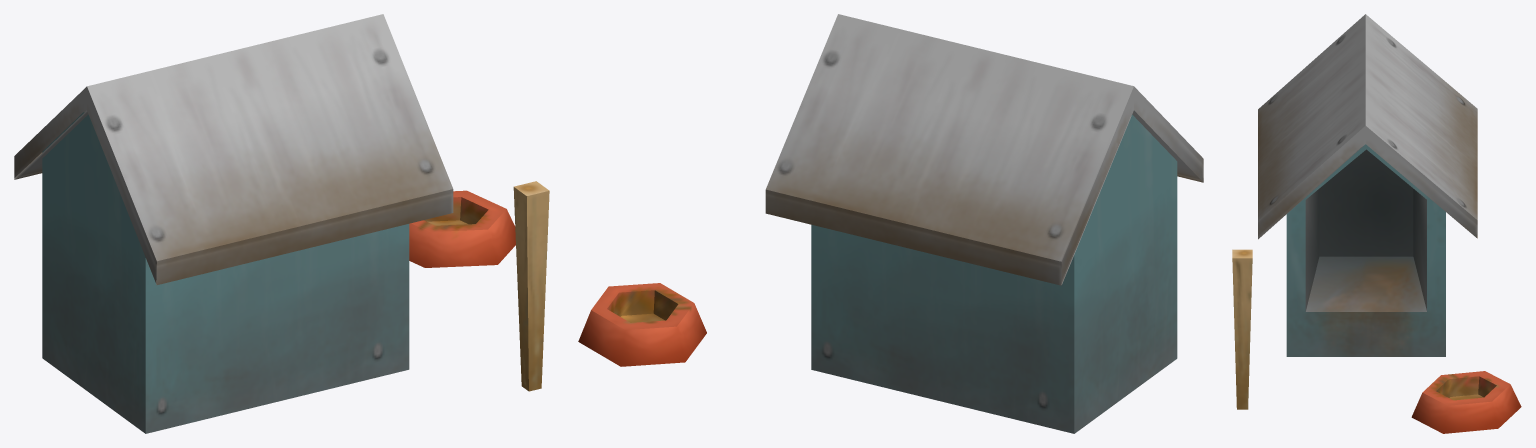
File: casinha_cachorro_mod.fbx
3 views of the same model, side by side, from view 1: azimuth 30°, elevation 25°; view 2: azimuth 150°, elevation 25°; view 3: azimuth 270°, elevation 25° (orthographic). The views are drawn at different scales.
Visible parts, largest first — view 1: casinha, tigela, madeira; view 2: casinha, tigela; view 3: casinha, tigela, madeira.
Boxes of the visible parts, box(x1,y1,x2,y2) form: casinha: box(14, 14, 453, 433); tigela: box(409, 190, 515, 267); madeira: box(513, 181, 549, 391); casinha: box(765, 14, 1203, 433); tigela: box(578, 283, 706, 366); casinha: box(1258, 14, 1477, 356); tigela: box(1411, 371, 1521, 433); madeira: box(1232, 249, 1252, 409).
Size of the model in its own units: 106 by 69.55 by 71.26.
